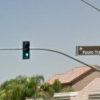Traffic light: (16, 31, 37, 64)
